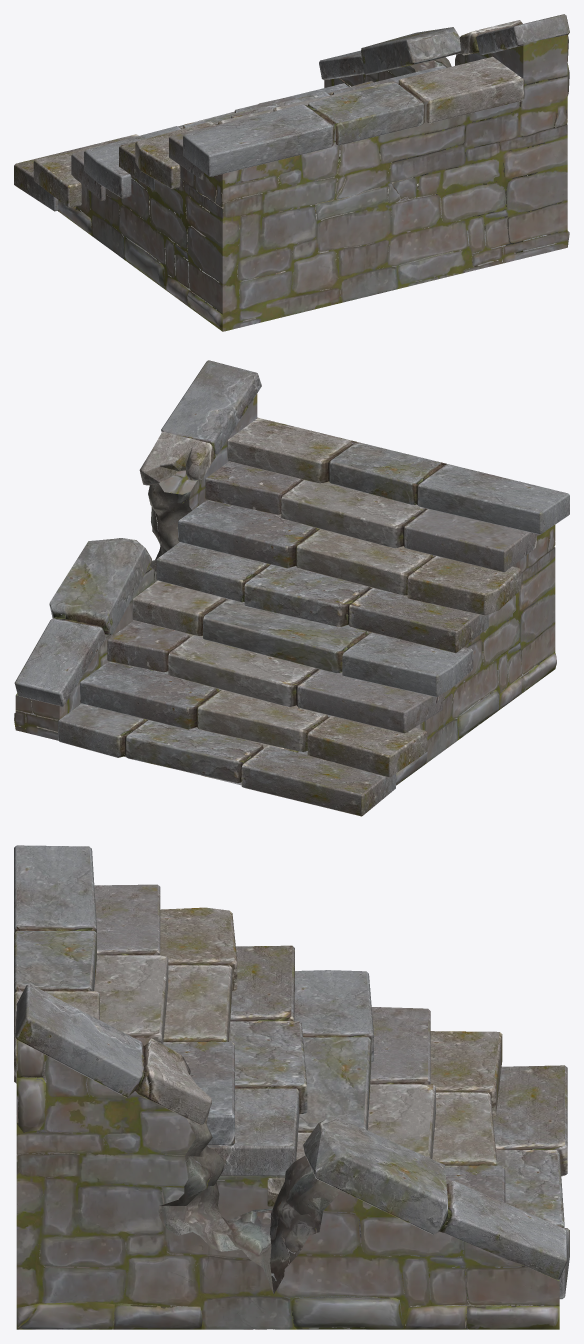
3 views of the same model, one above another, from view 1: azimuth 30°, elevation 25°; view 2: azimuth 150°, elevation 25°; view 3: azimuth 270°, elevation 25° (orthographic). The views are drawn at different scales.
Parts seen in each view (by area): view 1: SM_Castle_Steps_4x2_01_v3_LOD0; view 2: SM_Castle_Steps_4x2_01_v3_LOD0; view 3: SM_Castle_Steps_4x2_01_v3_LOD0.
Part boxes in pixels (x1,y1,x2,y2): SM_Castle_Steps_4x2_01_v3_LOD0: (14, 14, 569, 331); SM_Castle_Steps_4x2_01_v3_LOD0: (14, 360, 569, 816); SM_Castle_Steps_4x2_01_v3_LOD0: (14, 845, 569, 1329).
Bounding box in the file's own units: 4.27 × 2.55 × 4.1.
Materials: 3 (3 with a texture image).
